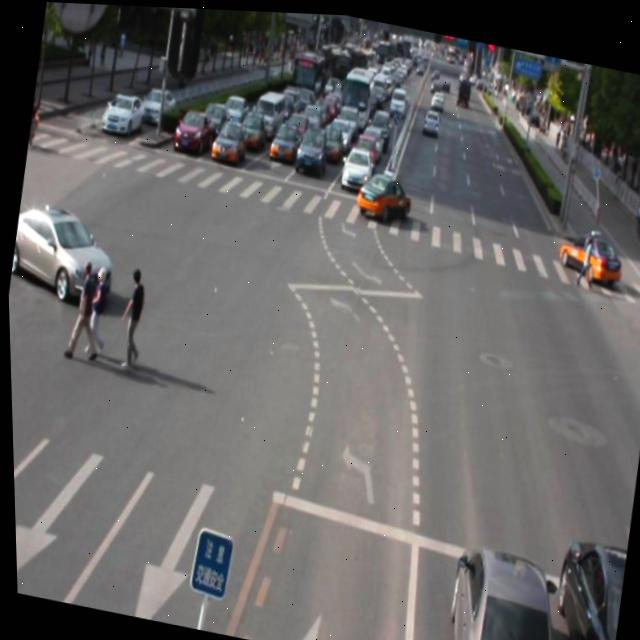car: (6, 197, 121, 305), (433, 543, 561, 640), (533, 534, 625, 640), (352, 165, 414, 221)
